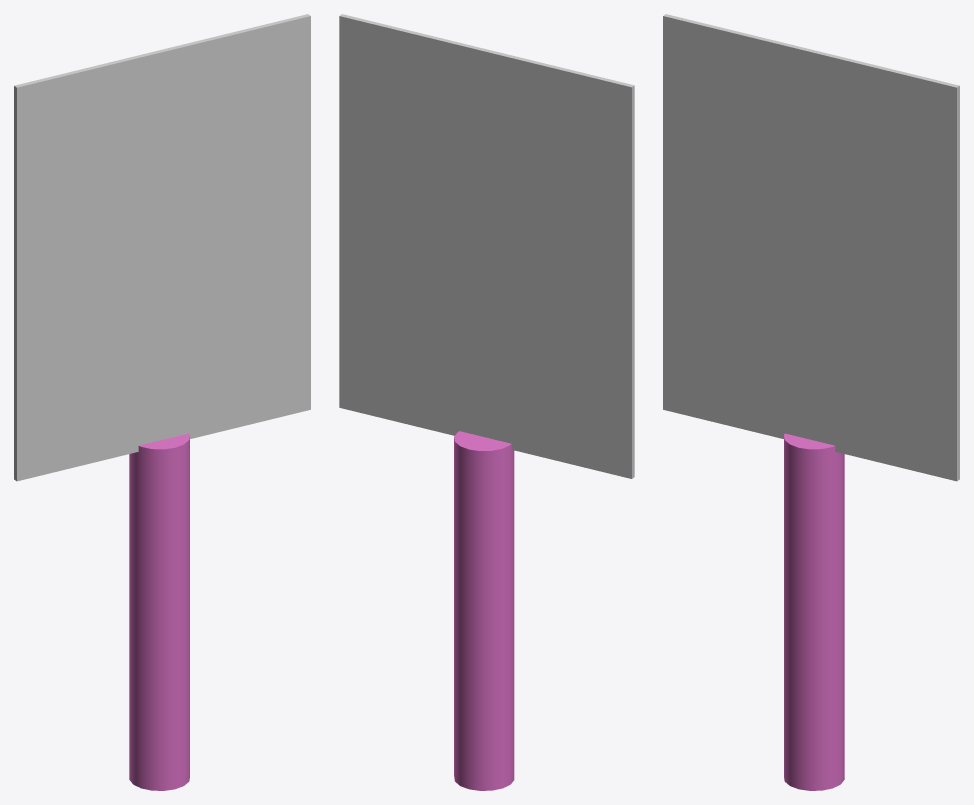
File: Sign.fbx
3 renders of one model, left to right at view 1: azimuth 30°, elevation 25°; view 2: azimuth 150°, elevation 25°; view 3: azimuth 330°, elevation 25°, orthographic.
Parts seen in each view (by area): view 1: Sign; view 2: Sign; view 3: Sign.
Part boxes in pixels (x1=…): Sign: x1=14, y1=14, x2=310, y2=790; Sign: x1=339, y1=14, x2=634, y2=790; Sign: x1=663, y1=14, x2=959, y2=790.
Bounding box in the file's own units: 161 × 381 × 28.92.
